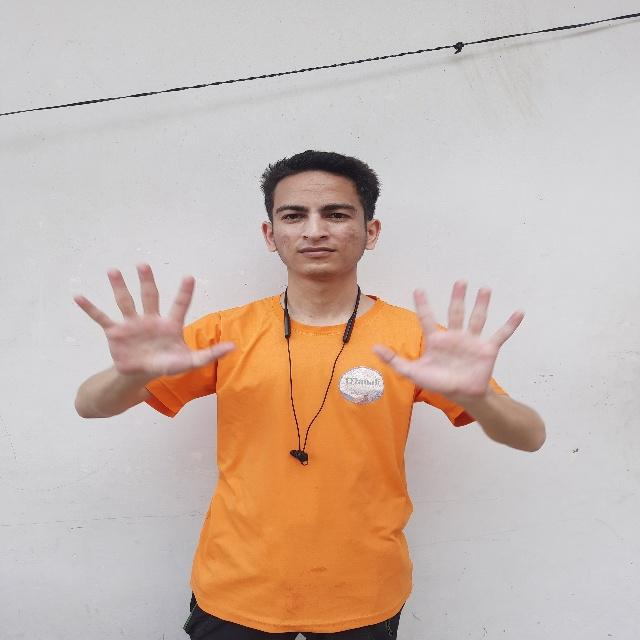Moutza: (362, 262, 540, 407), (72, 255, 245, 396)
